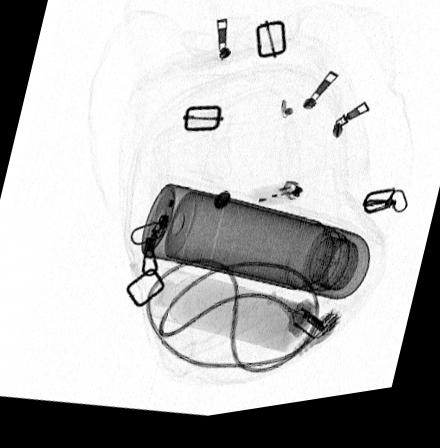Lighter: (248, 188, 306, 217)
